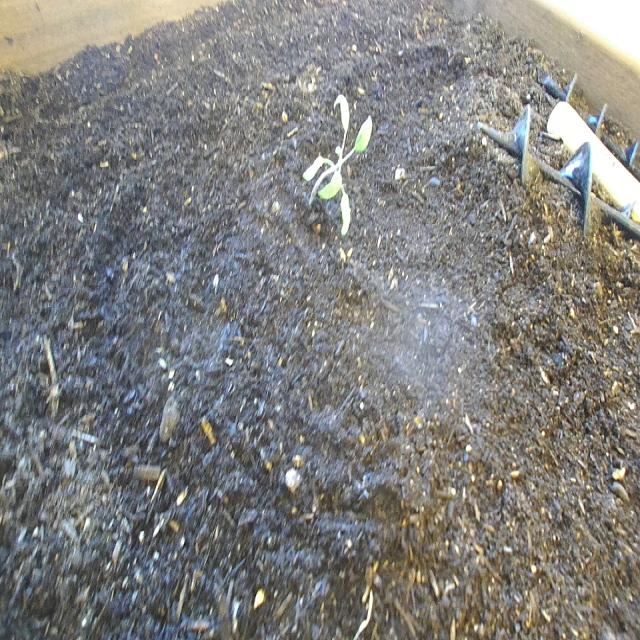Healthy: (299, 82, 377, 248)
